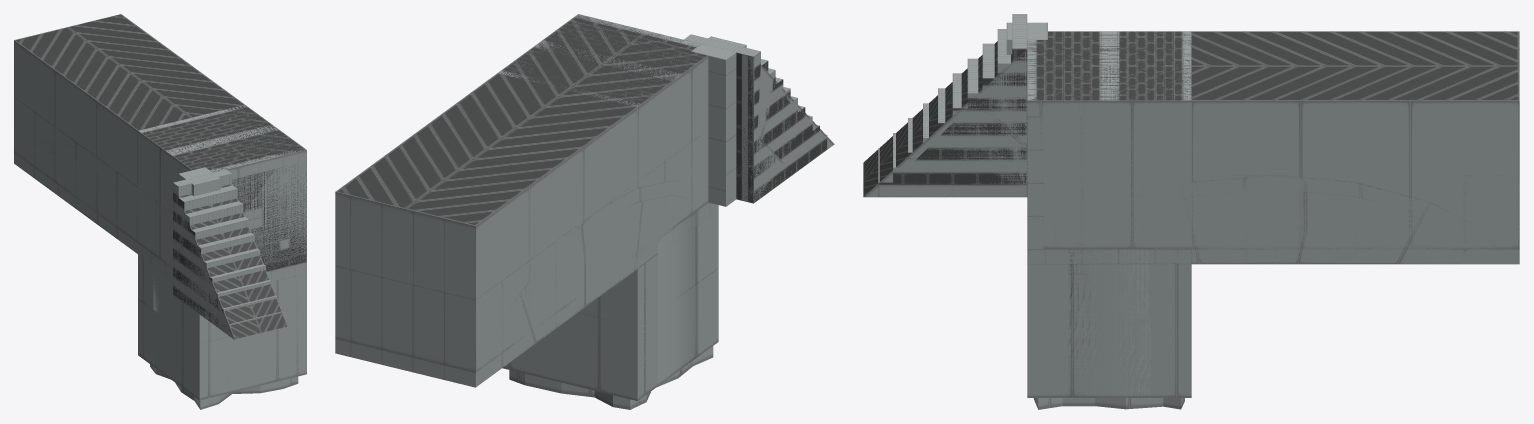
File: BasicPlatformingTiles.gltf
3 renders of one model, left to right at view 1: azimuth 30°, elevation 25°; view 2: azimuth 150°, elevation 25°; view 3: azimuth 270°, elevation 25°, orthographic. The views are drawn at different scales.
Visible parts, largest first — view 1: FloorPanel_TwoMeter_4, FloorPanel_TwoMeter_3, Ramp_1, Stairs_1, FloorPanel_OneMeter_4, FloorPanel_TriangleArc_TwoMeter_1_L, FloorPanel_Mini_TwoMeter_1, FloorPanel_LBlock_TwoMeter_1, WallPanel_3, Bridge_Arc_3, FloorPanel_4, FloorPanel_TriangleArc_TwoMeter_1_R (+10 smaller); view 2: FloorPanel_TwoMeter_4, FloorPanel_OneMeter_4, Bridge_Arc_3, FloorPanel_LBlock_TwoMeter_1, Stairs_1, FloorPanel_TwoMeter_3, FloorPanel_Circle_TwoMeter_1, FloorPanel_4, Post_1, Ramp_1, FloorPanel_Circle_OneMeter_1, Bridge_Arc_1 (+11 smaller); view 3: FloorPanel_TwoMeter_4, FloorPanel_TwoMeter_3, Bridge_Arc_3, FloorPanel_LBlock_TwoMeter_1, Stairs_1, Ramp_1, FloorPanel_LBlock_OneMeter_1, FloorPanel_BrokenEdge_TwoMeter_1, FloorPanel_TriangleArc_TwoMeter_1_R, FloorPanel_Circle_TwoMeter_1, FloorPanel_OneMeter_4, Bridge_Arc_1 (+9 smaller).
Boxes of the visible parts, bbox=[...] form: FloorPanel_TwoMeter_4: bbox=[14, 14, 306, 264]; FloorPanel_TwoMeter_3: bbox=[138, 105, 306, 270]; Ramp_1: bbox=[173, 184, 288, 339]; Stairs_1: bbox=[173, 169, 282, 333]; FloorPanel_OneMeter_4: bbox=[14, 96, 306, 258]; FloorPanel_TriangleArc_TwoMeter_1_L: bbox=[138, 266, 306, 400]; FloorPanel_Mini_TwoMeter_1: bbox=[168, 269, 252, 400]; FloorPanel_LBlock_TwoMeter_1: bbox=[138, 247, 306, 381]; WallPanel_3: bbox=[232, 164, 306, 271]; Bridge_Arc_3: bbox=[14, 141, 306, 281]; FloorPanel_4: bbox=[14, 152, 306, 281]; FloorPanel_TriangleArc_TwoMeter_1_R: bbox=[242, 274, 306, 386]; FloorPanel_TwoMeter_4: bbox=[335, 14, 708, 372]; FloorPanel_OneMeter_4: bbox=[335, 131, 707, 371]; Bridge_Arc_3: bbox=[335, 181, 717, 387]; FloorPanel_LBlock_TwoMeter_1: bbox=[502, 258, 657, 400]; Stairs_1: bbox=[684, 34, 827, 203]; FloorPanel_TwoMeter_3: bbox=[497, 14, 708, 219]; FloorPanel_Circle_TwoMeter_1: bbox=[658, 212, 698, 385]; FloorPanel_4: bbox=[335, 202, 716, 387]; Post_1: bbox=[691, 36, 746, 205]; Ramp_1: bbox=[742, 55, 834, 202]; FloorPanel_Circle_OneMeter_1: bbox=[658, 210, 698, 311]; Bridge_Arc_1: bbox=[476, 180, 691, 383]; FloorPanel_TwoMeter_4: bbox=[1027, 31, 1519, 249]; FloorPanel_TwoMeter_3: bbox=[1027, 31, 1191, 249]; Bridge_Arc_3: bbox=[1027, 175, 1519, 264]; FloorPanel_LBlock_TwoMeter_1: bbox=[1027, 250, 1191, 397]; Stairs_1: bbox=[878, 14, 1027, 197]; Ramp_1: bbox=[863, 41, 1027, 197]; FloorPanel_LBlock_OneMeter_1: bbox=[1027, 249, 1191, 322]; FloorPanel_BrokenEdge_TwoMeter_1: bbox=[1027, 250, 1163, 397]; FloorPanel_TriangleArc_TwoMeter_1_R: bbox=[1027, 252, 1191, 397]; FloorPanel_Circle_TwoMeter_1: bbox=[1068, 252, 1150, 397]; FloorPanel_OneMeter_4: bbox=[1044, 175, 1519, 249]; Bridge_Arc_1: bbox=[1028, 175, 1519, 262].
Bounding box in the file's own units: 2.5 × 4.2 × 8.
Materials: 1 (1 with a texture image).
